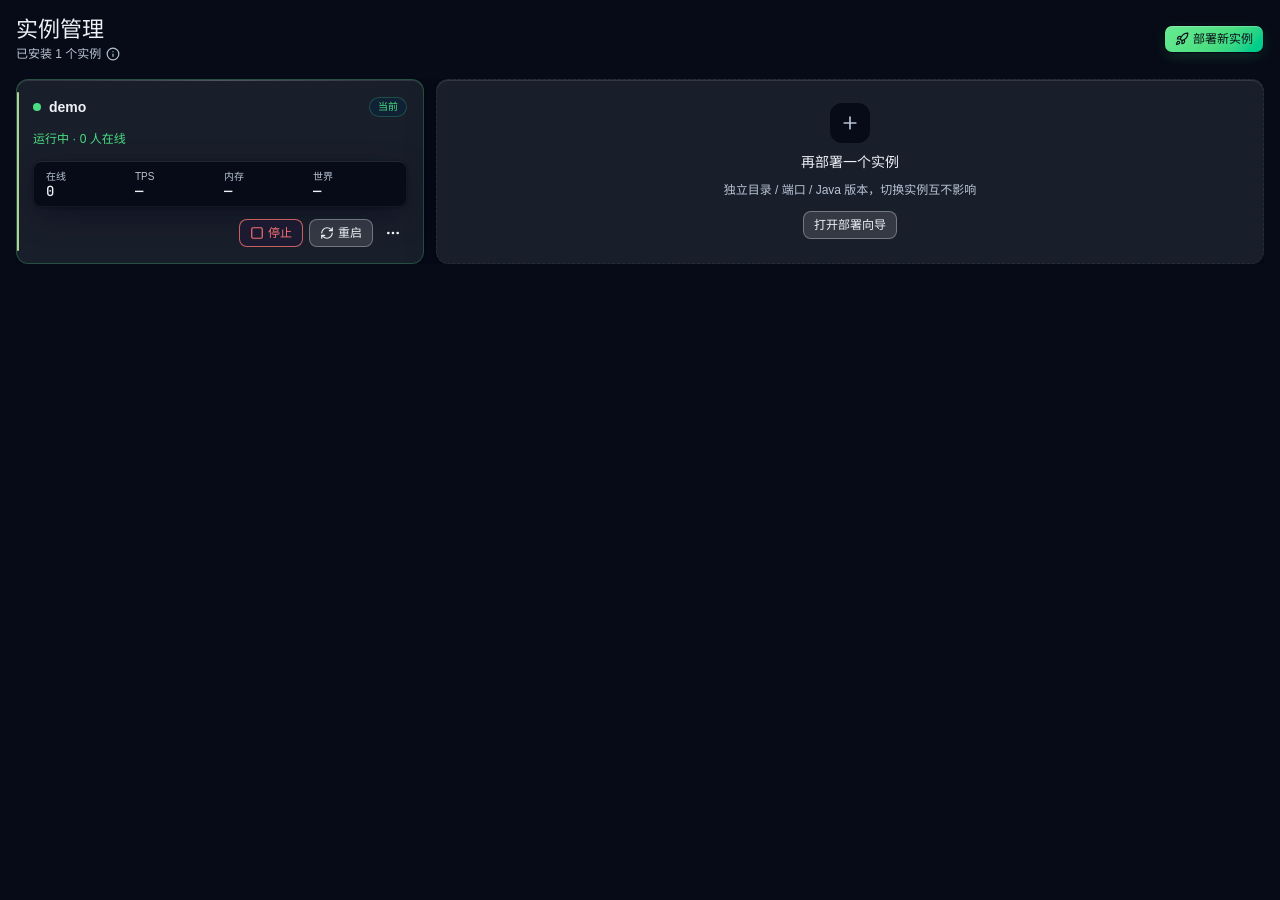
Test: InstancesPage · 卸载确认 › 库中实例名为空串（升级前旧值） › 输入任意非空名字 → 确认按钮禁用（UI 侧拦截，服务端同判为 400）
This screenshot has width=1280, height=900.
Click the button named "demo 操作菜单" at [393, 233], box [379, 219, 407, 247]
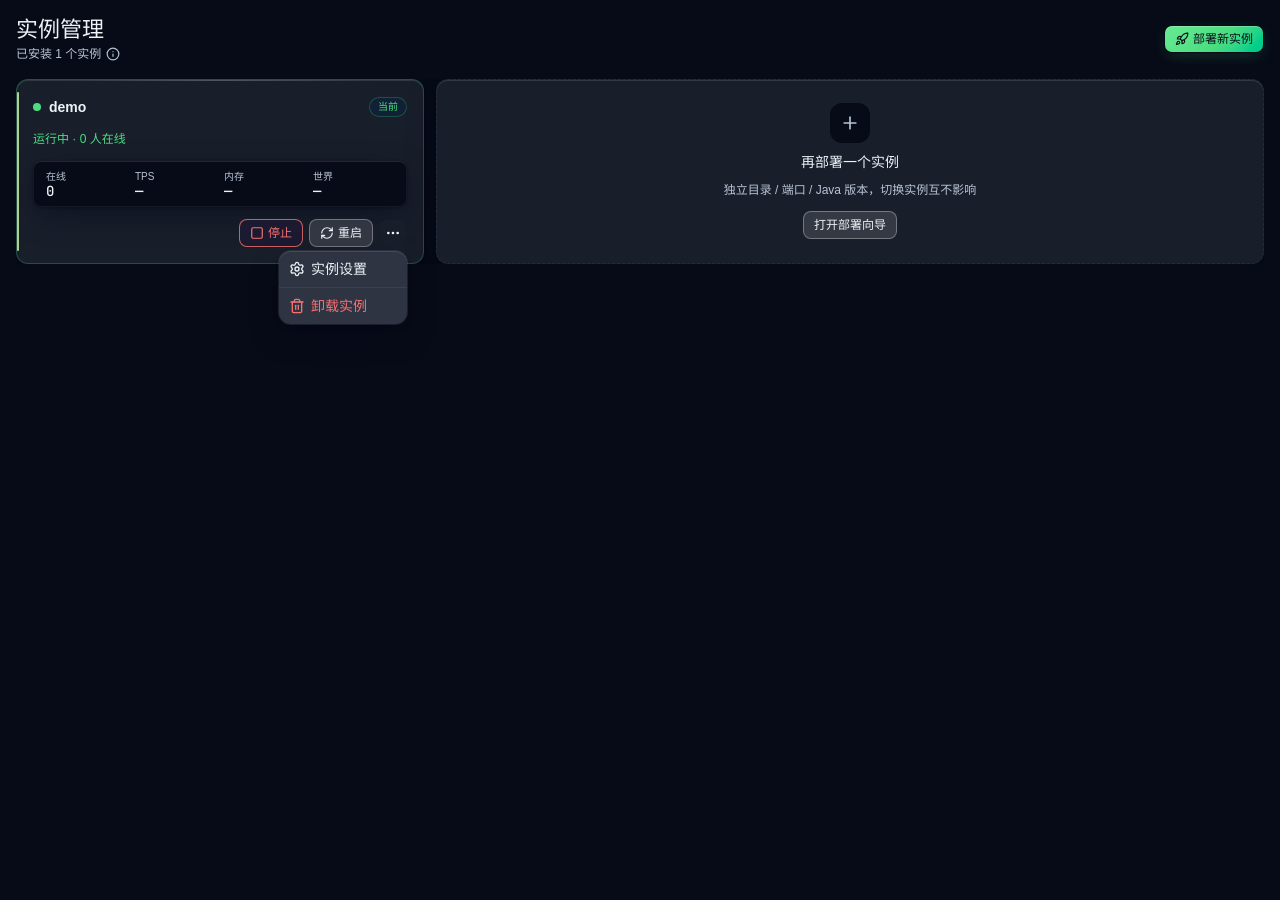
Click the menu item "卸载实例" at [328, 306], box [289, 298, 367, 314]
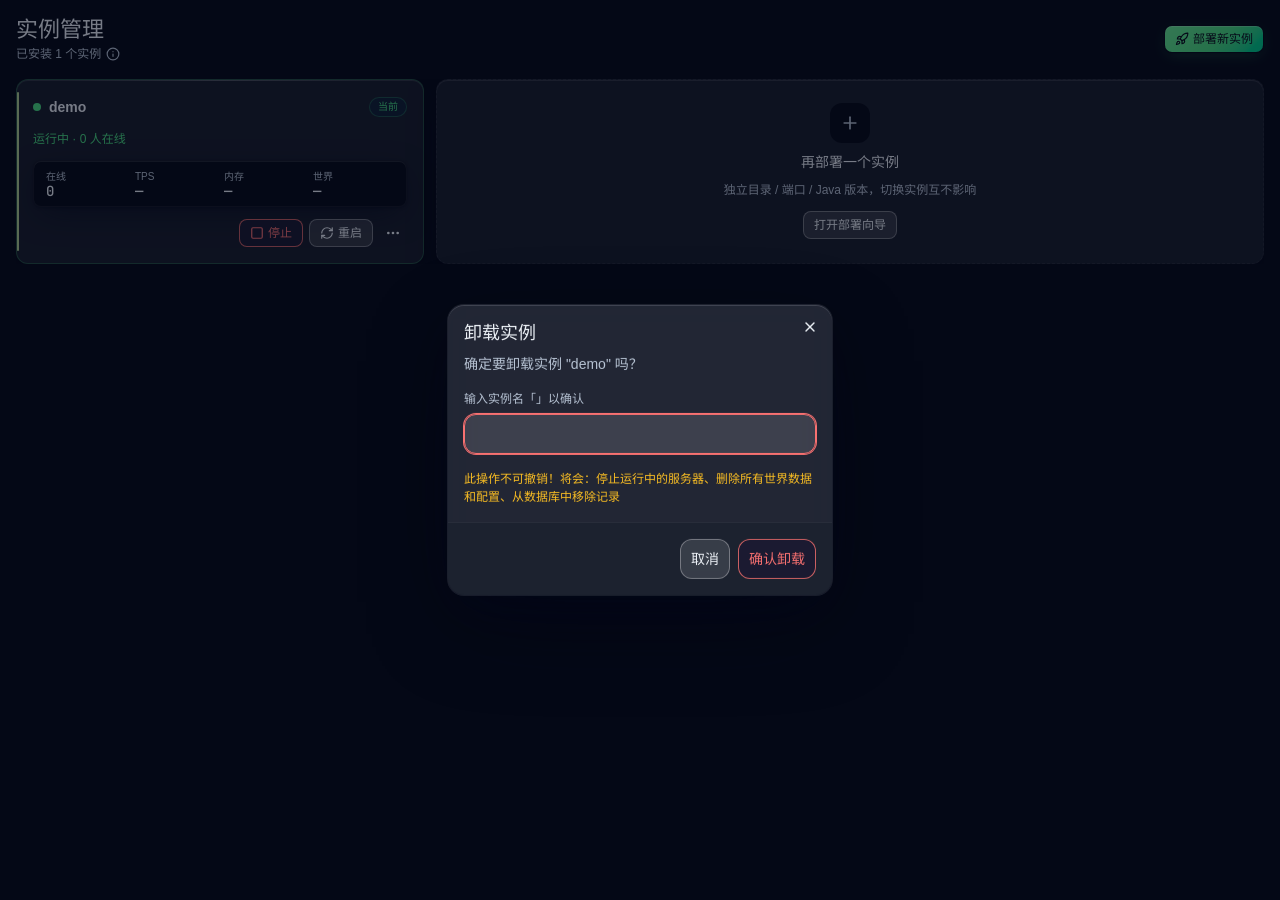
Type "随便什么" into the field labelled "输入实例名「」以确认" at [640, 434], box [464, 414, 816, 454]
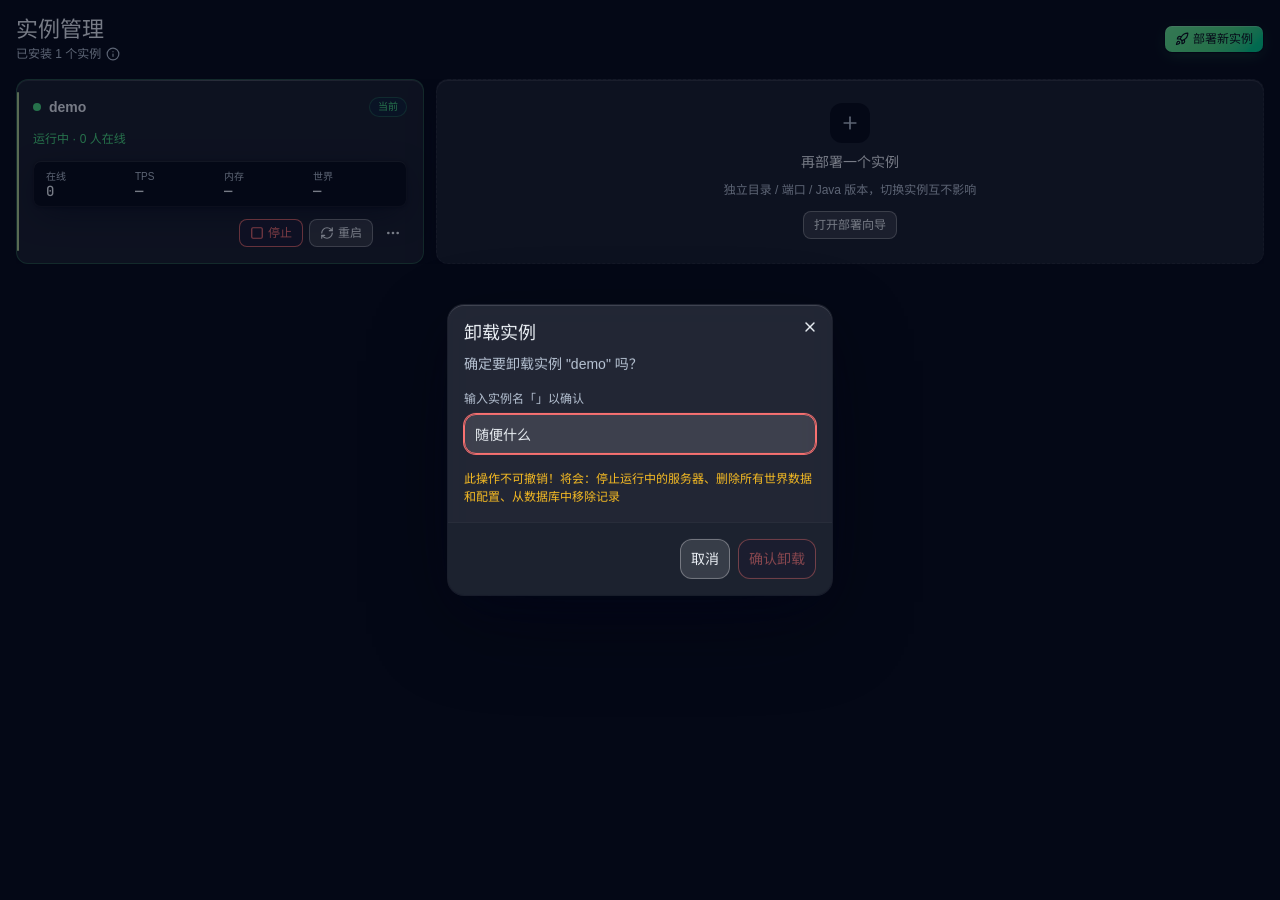
Expected: the button "确认卸载" is disabled, [738, 539, 816, 579]
